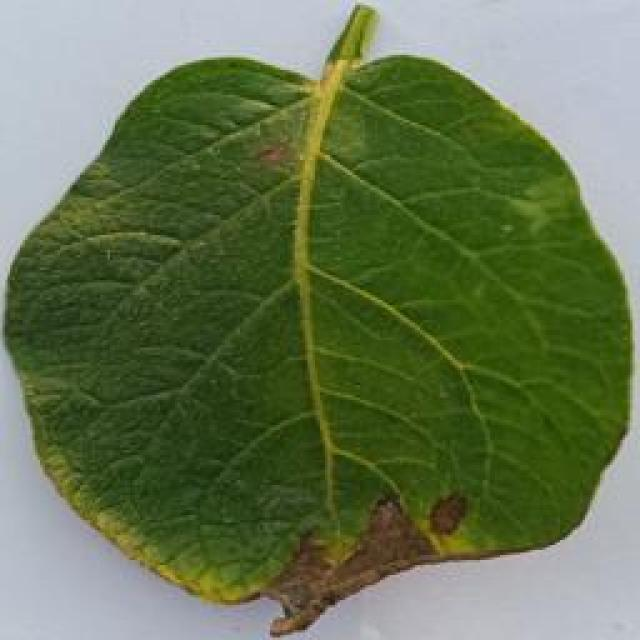Potato_Late_Blight: (4, 8, 634, 634)
